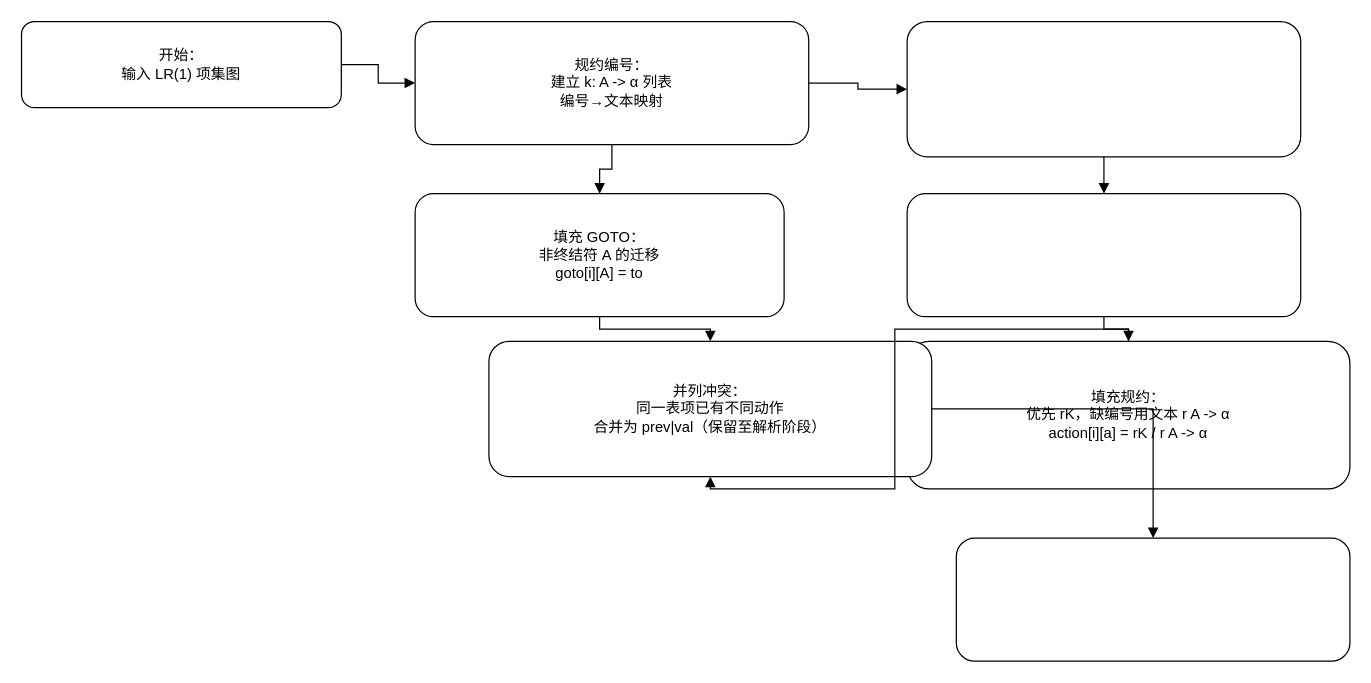
This 1371x683 diagram has some shape labels left out. The shapes that lost their labels are listed below. From the top down, each one's centre as x and y in pixels, then its label:
(1103,88): 填充移进： 点后终结符 X 且存在边 action[i][X] = s{to}
(1103,254): 接受项： 增广产生式的 $ 前瞻 action[i]['$'] = acc
(1152,599): 输出： action/goto 表摘要 接受/移进/规约统计
